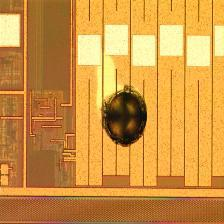PARTICLE: (100, 86, 151, 148)
